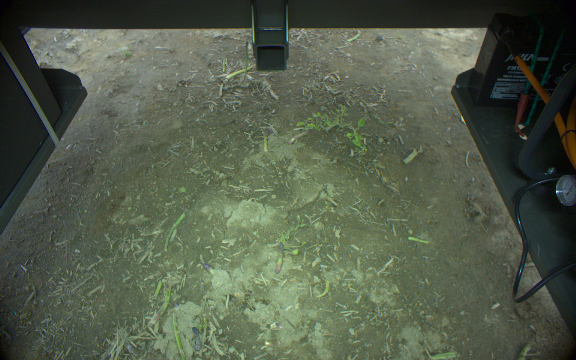aspa: (163, 210, 187, 252), (149, 290, 171, 330), (172, 302, 185, 360), (227, 64, 254, 78), (274, 239, 284, 274), (287, 129, 310, 144), (241, 39, 249, 81), (192, 326, 201, 351), (152, 279, 162, 296), (262, 128, 268, 152)
